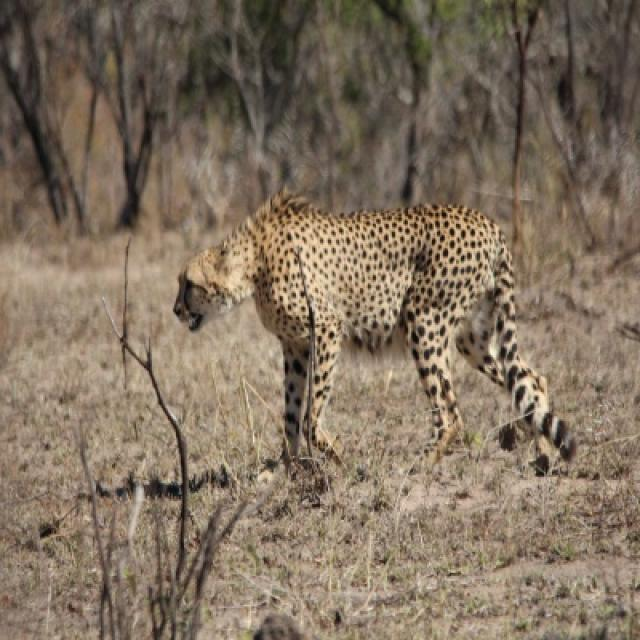Cheetah: (171, 192, 576, 477)
